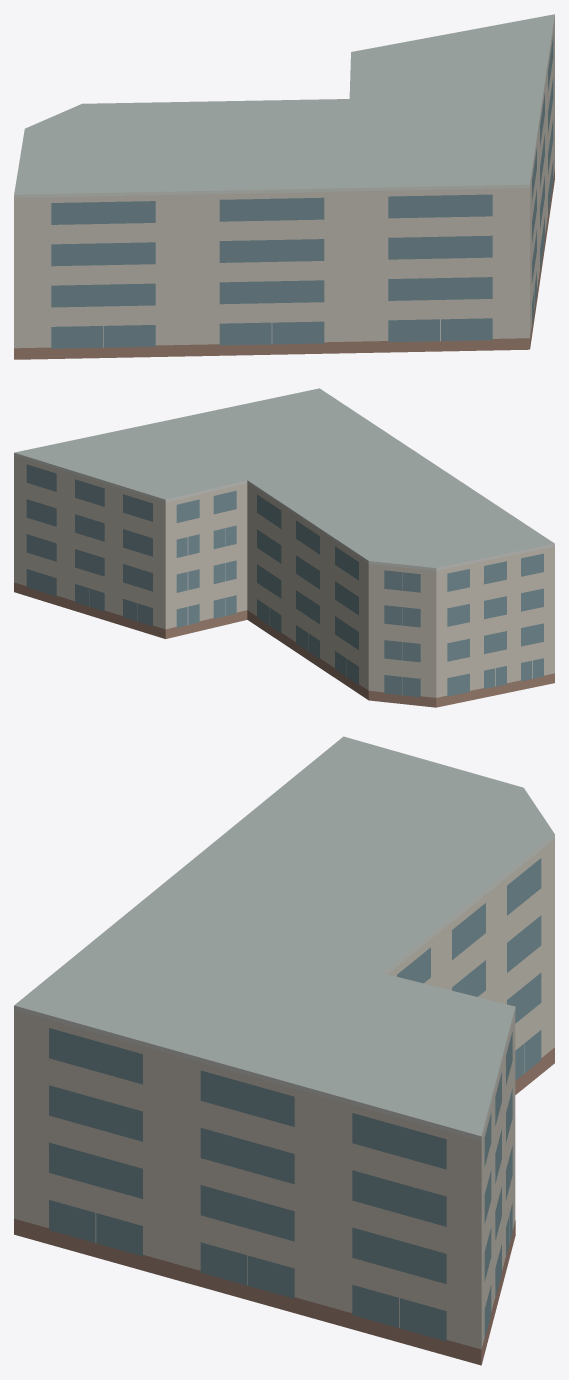
Rendered from residential-e1899050-acf3-4df7-ae7b-5b62924e1168.glb.
3 renders of one model, top to bottom at view 1: azimuth 30°, elevation 25°; view 2: azimuth 150°, elevation 25°; view 3: azimuth 270°, elevation 25°, orthographic. The views are drawn at different scales.
Visible parts, largest first — view 1: residential-e1899050-acf3-4df7-ae7b-5b62924e1168.tmp; view 2: residential-e1899050-acf3-4df7-ae7b-5b62924e1168.tmp; view 3: residential-e1899050-acf3-4df7-ae7b-5b62924e1168.tmp.
Part boxes in pixels (x1,y1,x2,y2): residential-e1899050-acf3-4df7-ae7b-5b62924e1168.tmp: (14, 14, 554, 359); residential-e1899050-acf3-4df7-ae7b-5b62924e1168.tmp: (14, 388, 554, 707); residential-e1899050-acf3-4df7-ae7b-5b62924e1168.tmp: (14, 736, 554, 1365).
Bounding box in the file's own units: 45.67 × 12.2 × 26.1.
